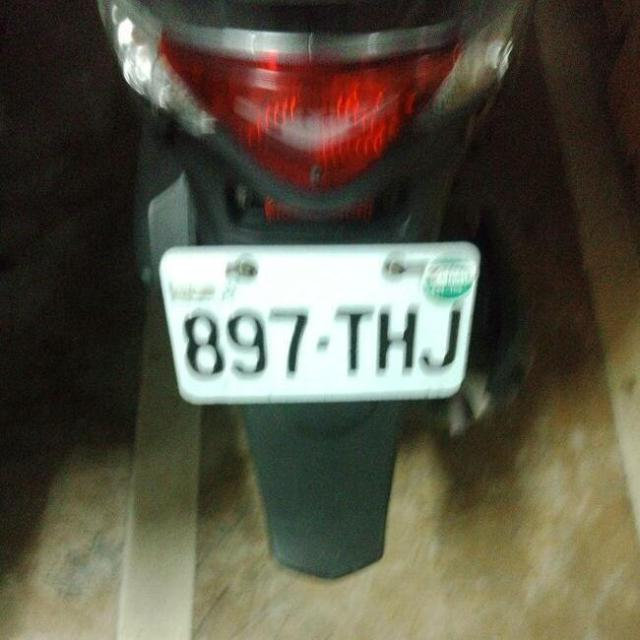W: (151, 218, 491, 424)
